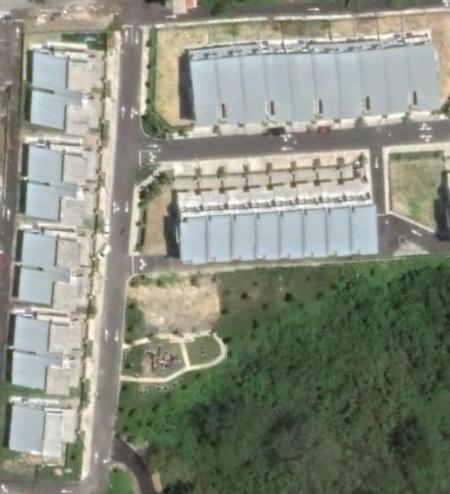building: (15, 85, 116, 142), (21, 39, 115, 98), (4, 261, 97, 314), (6, 224, 101, 275), (2, 400, 82, 460), (9, 179, 105, 228), (16, 138, 105, 189), (1, 348, 86, 400), (5, 307, 92, 352), (343, 170, 381, 258), (170, 181, 208, 268), (184, 41, 221, 130), (405, 28, 442, 116), (309, 34, 344, 126), (246, 177, 283, 264), (213, 39, 249, 128), (263, 36, 298, 127), (270, 175, 306, 263), (240, 36, 274, 129), (288, 34, 321, 127), (384, 29, 418, 118), (296, 172, 329, 261), (321, 170, 353, 261), (361, 32, 394, 120), (201, 180, 234, 267), (338, 34, 368, 124), (226, 179, 257, 265)
